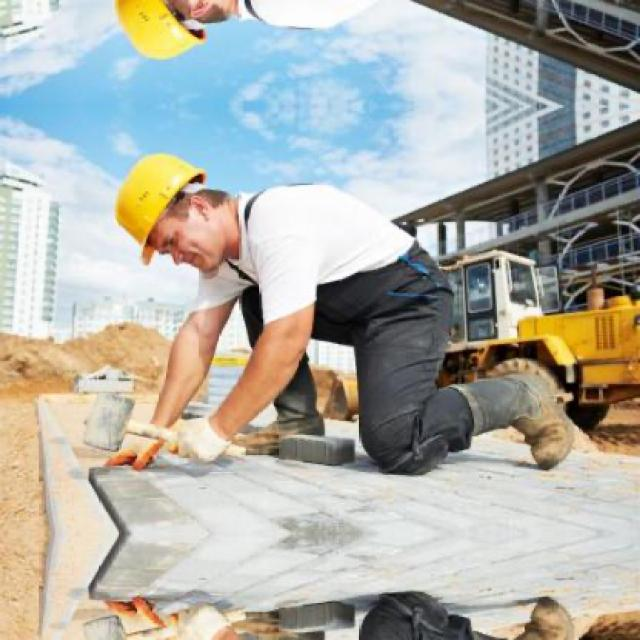helmet: (102, 144, 246, 279), (100, 0, 246, 71)
